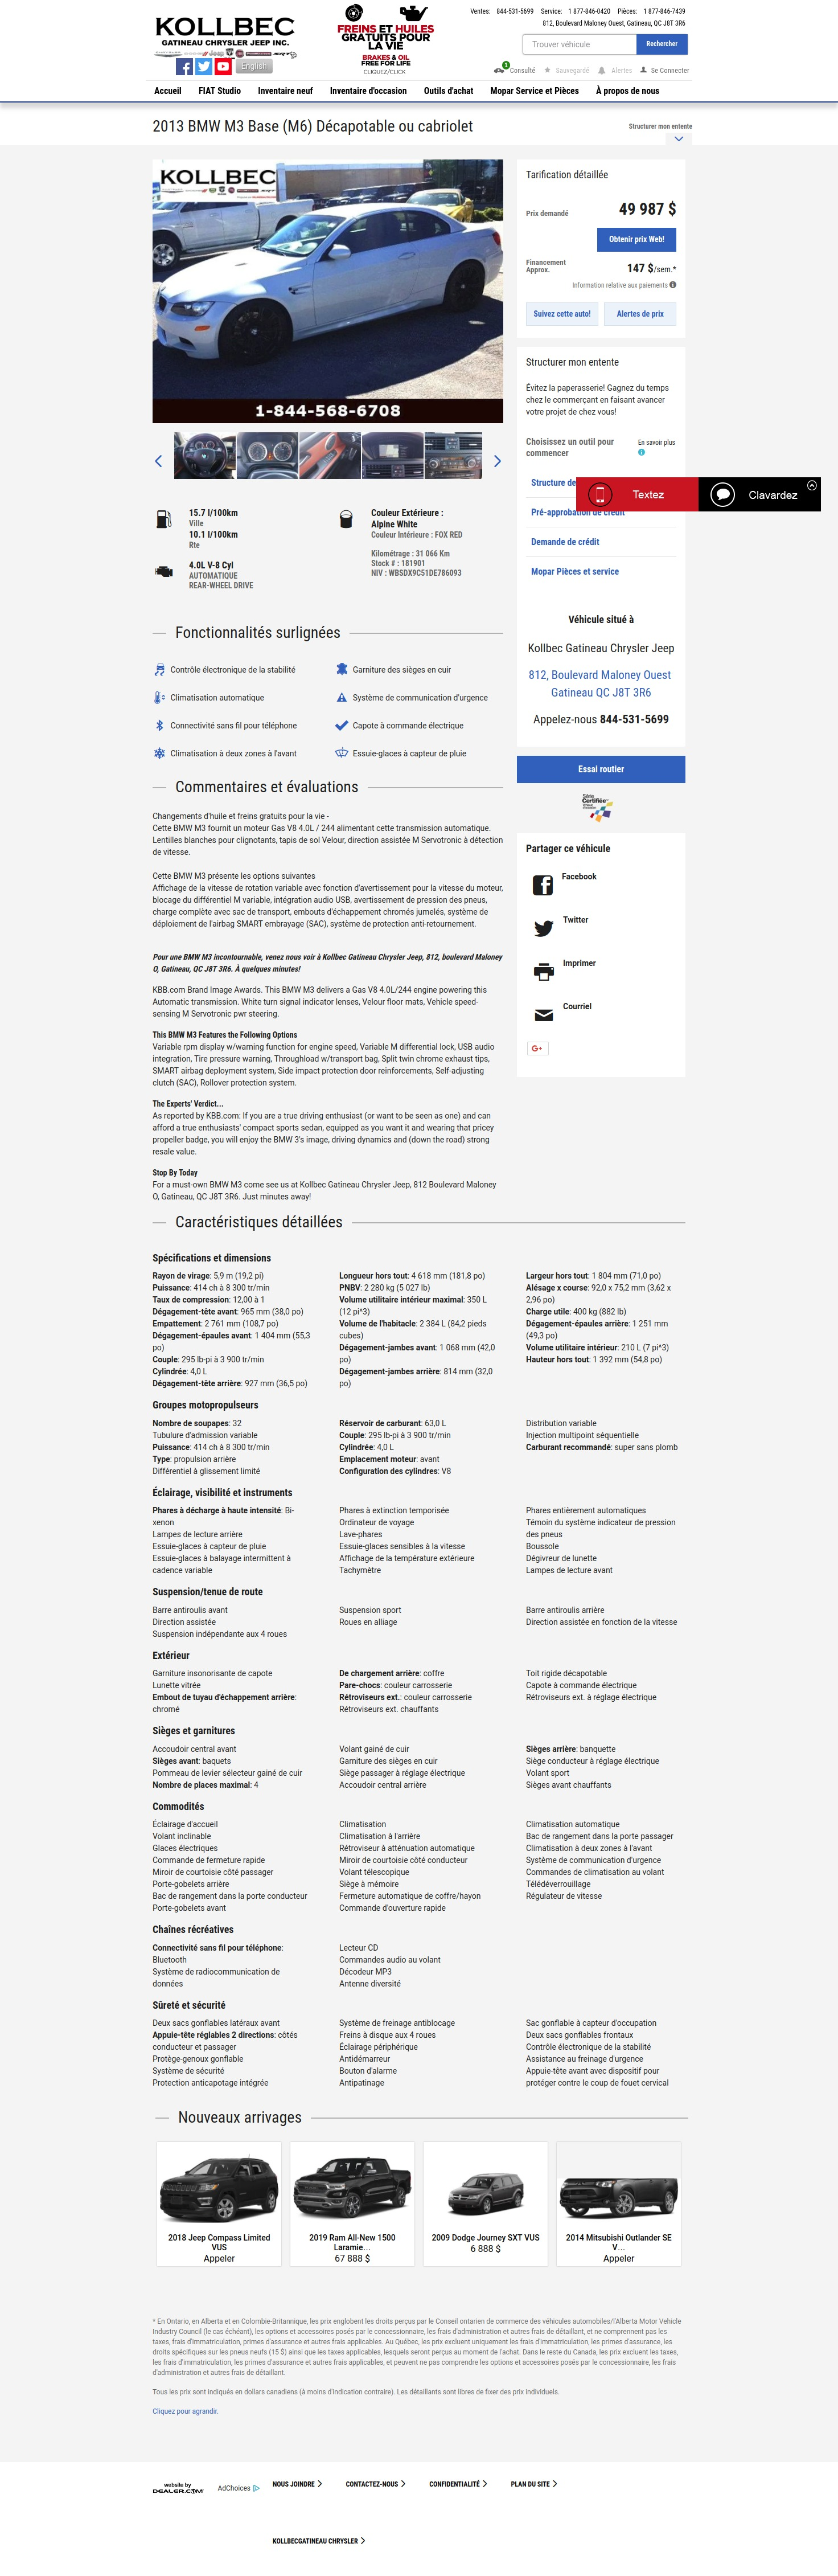car: (495, 455, 503, 468)
